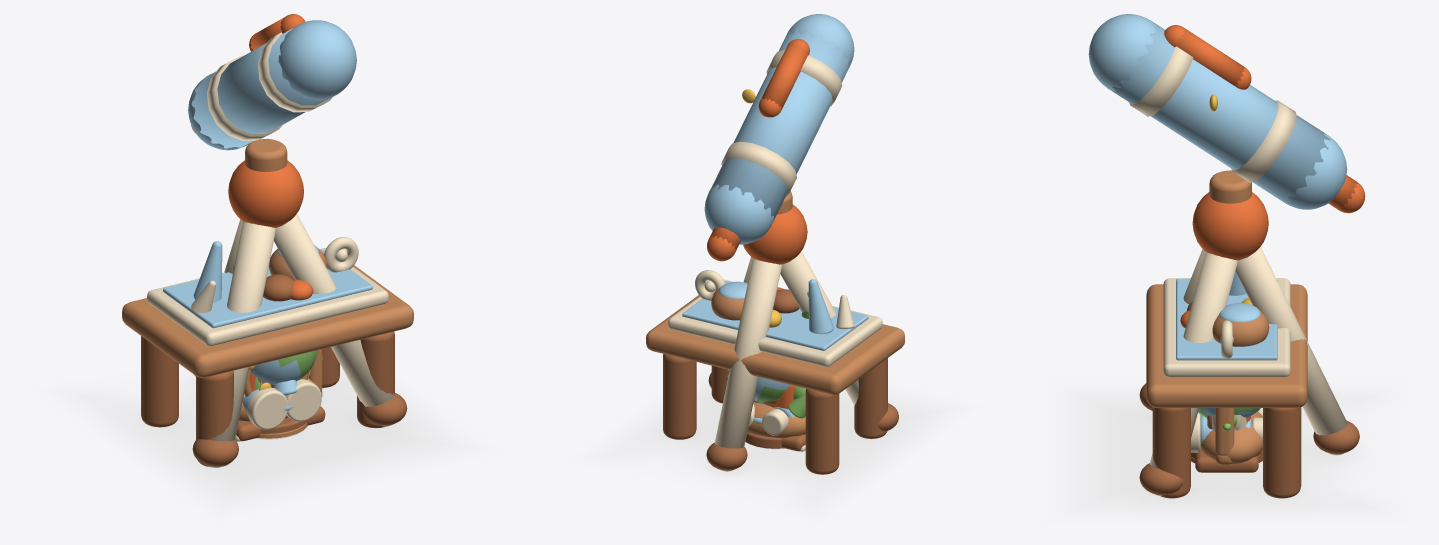
The model's file is interest_science_v1.glb.
3 views of the same model, side by side, from view 1: azimuth 30°, elevation 25°; view 2: azimuth 150°, elevation 25°; view 3: azimuth 270°, elevation 25° (orthographic). The views are drawn at different scales.
Parts seen in each view (by area): view 1: shadow_telescope, telescope, mineral_bench_top, shadow_mineral_bench, telescope_tube, telescope_tube_c1, mineral_bench_tray, telescope_hub, mineral_bench_tray_in, mineral_bench_leg_-11, mineral_bench_leg_-1-1, mineral_bench (+10 smaller); view 2: shadow_telescope, telescope_tube, telescope, mineral_bench_top, shadow_mineral_bench, mineral_bench, mineral_bench_tray, mineral_bench_leg_-11, telescope_tube_c0, mineral_bench_tray_in, telescope_hub, mineral_bench_leg_-1-1 (+11 smaller); view 3: shadow_telescope, telescope_tube, telescope, mineral_bench_top, shadow_mineral_bench, mineral_bench_tray, telescope_hub, mineral_bench, telescope_tube_c1, mineral_bench_leg_1-1, mineral_bench_tray_in, telescope_tube_c0 (+10 smaller).
Boxes of the visible parts, x1,y1,x2,y2 form: shadow_telescope: [56, 364, 479, 512]; telescope: [192, 214, 407, 466]; mineral_bench_top: [122, 265, 413, 377]; shadow_mineral_bench: [114, 367, 420, 480]; telescope_tube: [191, 28, 331, 148]; telescope_tube_c1: [278, 20, 356, 99]; mineral_bench_tray: [147, 248, 388, 346]; telescope_hub: [228, 160, 303, 227]; mineral_bench_tray_in: [163, 249, 372, 328]; mineral_bench_leg_-11: [141, 336, 178, 427]; mineral_bench_leg_-1-1: [196, 371, 233, 467]; mineral_bench: [191, 241, 339, 387]; shadow_telescope: [587, 368, 963, 514]; telescope_tube: [710, 29, 851, 222]; telescope: [706, 251, 898, 470]; mineral_bench_top: [646, 295, 904, 394]; shadow_mineral_bench: [639, 388, 910, 486]; mineral_bench: [663, 279, 854, 439]; mineral_bench_tray: [668, 279, 882, 366]; mineral_bench_leg_-11: [805, 389, 839, 474]; telescope_tube_c0: [704, 184, 773, 244]; mineral_bench_tray_in: [682, 281, 868, 350]; telescope_hub: [743, 204, 807, 264]; mineral_bench_leg_-1-1: [854, 358, 887, 438]; shadow_telescope: [1061, 388, 1392, 515]; telescope_tube: [1107, 21, 1330, 203]; telescope: [1139, 246, 1359, 495]; mineral_bench_top: [1146, 284, 1307, 407]; shadow_mineral_bench: [1127, 401, 1325, 506]; mineral_bench_tray: [1163, 278, 1290, 377]; telescope_hub: [1192, 192, 1268, 260]; mineral_bench: [1229, 271, 1301, 498]; telescope_tube_c1: [1088, 14, 1156, 91]; mineral_bench_leg_1-1: [1152, 407, 1190, 498]; mineral_bench_tray_in: [1176, 278, 1277, 360]; telescope_tube_c0: [1282, 134, 1347, 209].
Size of the model in its own units: 0.88 by 1.13 by 0.9326.
8 materials, 1 textured.
